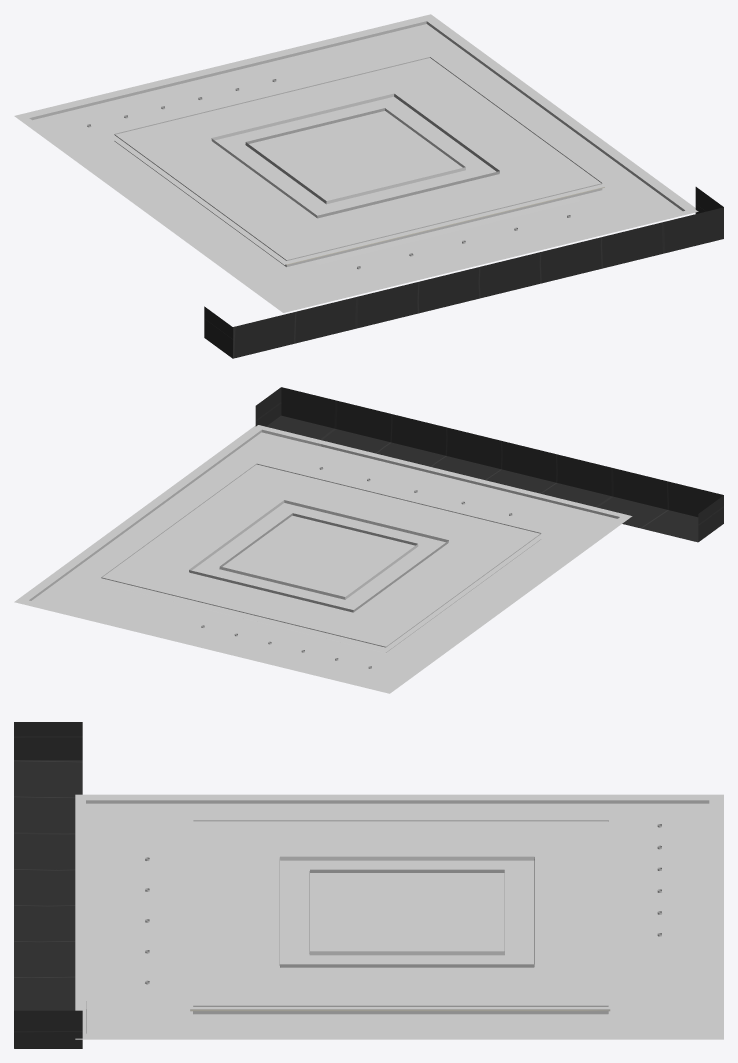
The model's file is CommunityRoomA_Ceiling.fbx.
3 views of the same model, one above another, from view 1: azimuth 30°, elevation 25°; view 2: azimuth 150°, elevation 25°; view 3: azimuth 270°, elevation 25° (orthographic). The views are drawn at different scales.
Parts seen in each view (by area): view 1: CommunityRoomA_Ceiling; view 2: CommunityRoomA_Ceiling; view 3: CommunityRoomA_Ceiling.
Part boxes in pixels (x1=…): CommunityRoomA_Ceiling: x1=14, y1=14, x2=723, y2=358; CommunityRoomA_Ceiling: x1=14, y1=387, x2=723, y2=693; CommunityRoomA_Ceiling: x1=14, y1=722, x2=723, y2=1048.
Size of the model in its own units: 1661 by 102 by 1721.
